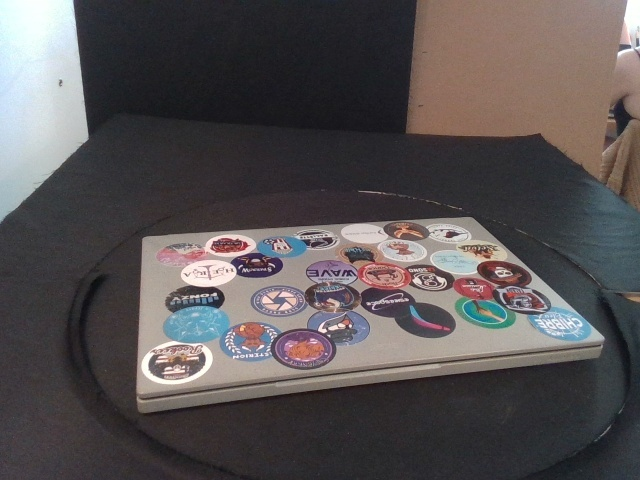laptop: (134, 216, 605, 414)
